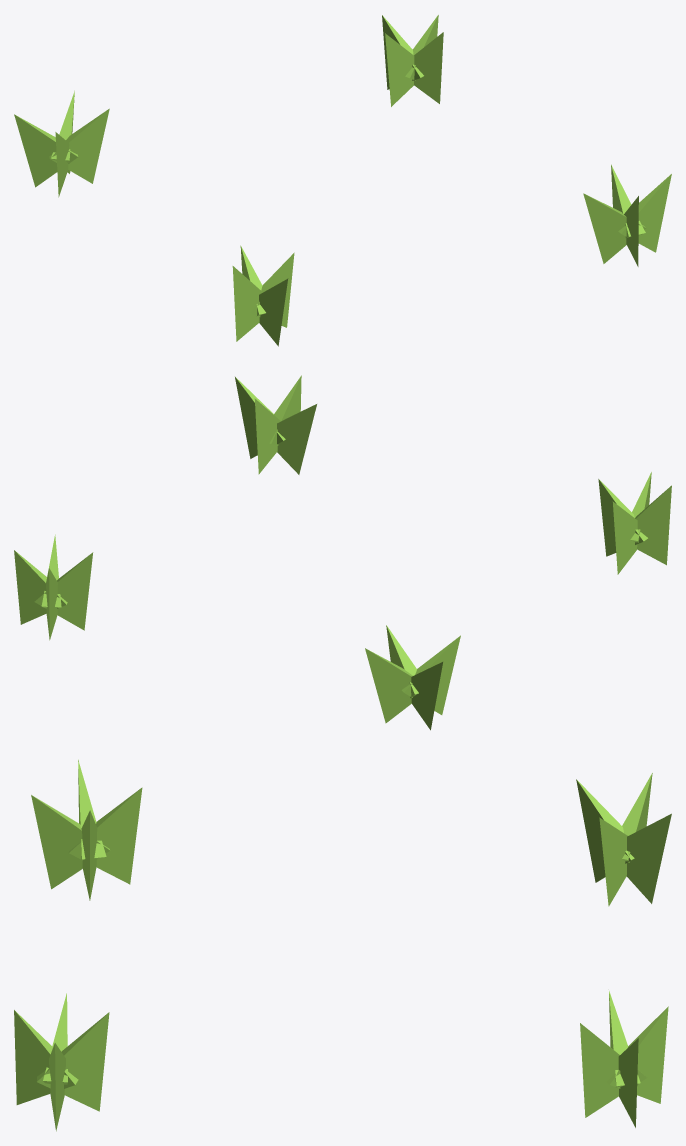
File: lettuce-1.glb
The picture shows the model from 3 angles, top to bottom: view 1: azimuth 30°, elevation 25°; view 2: azimuth 150°, elevation 25°; view 3: azimuth 270°, elevation 25°; orthographic projection. The views are drawn at different scales.
Parts seen in each view (by area): view 1: lettuce-1; view 2: lettuce-1; view 3: lettuce-1.
Boxes of the visible parts, x1=… form: lettuce-1: x1=14, y1=15, x2=671, y2=346; lettuce-1: x1=14, y1=375, x2=671, y2=730; lettuce-1: x1=14, y1=759, x2=671, y2=1131.
Bounding box in the file's own units: 0.4666 × 0.0868 × 0.4722.
1 material, 1 textured.
